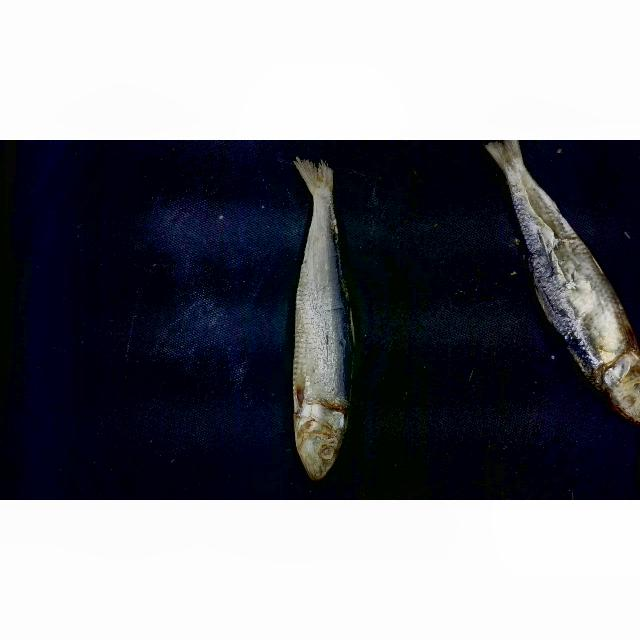Grade_A_Body: (519, 237, 640, 349), (292, 258, 356, 394)
Grade_A_Head: (286, 395, 356, 484), (575, 357, 640, 426)
Grade_A_Tail: (468, 142, 588, 231), (280, 158, 361, 256)
